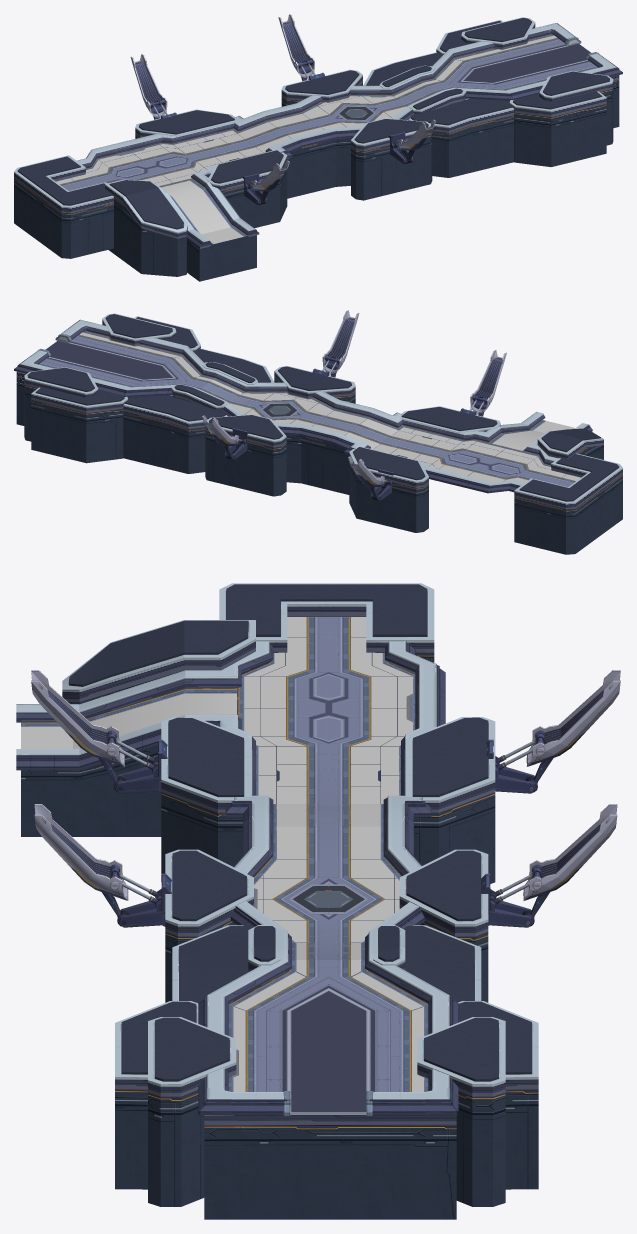
File: Scece_01_pingta05.FBX
3 renders of one model, top to bottom at view 1: azimuth 30°, elevation 25°; view 2: azimuth 150°, elevation 25°; view 3: azimuth 270°, elevation 25°, orthographic. The views are drawn at different scales.
Visible parts, largest first — view 1: Scece_01_pingta05_06, Scece_01_pingta05_03, Scece_01_pingta05_01, Scece_01_pingta05_04, Mesh_0041, Scece_01_pingta05_05; view 2: Scece_01_pingta05_06, Scece_01_pingta05_03, Scece_01_pingta05_01, Scece_01_pingta05_04, Mesh_0041, Scece_01_pingta05_05; view 3: Scece_01_pingta05_06, Scece_01_pingta05_03, Scece_01_pingta05_01, Mesh_0041, Scece_01_pingta05_04, Scece_01_pingta05_05, Mesh_0042.
Part boxes in pixels (bbox=[...]): Scece_01_pingta05_06: bbox=[14, 17, 619, 281]; Scece_01_pingta05_03: bbox=[17, 18, 609, 229]; Scece_01_pingta05_01: bbox=[60, 34, 597, 244]; Scece_01_pingta05_04: bbox=[77, 23, 622, 248]; Mesh_0041: bbox=[56, 35, 556, 243]; Scece_01_pingta05_05: bbox=[130, 14, 435, 205]; Scece_01_pingta05_06: bbox=[16, 313, 622, 554]; Scece_01_pingta05_03: bbox=[27, 314, 619, 501]; Scece_01_pingta05_01: bbox=[39, 331, 575, 486]; Scece_01_pingta05_04: bbox=[14, 319, 592, 493]; Mesh_0041: bbox=[80, 332, 580, 482]; Scece_01_pingta05_05: bbox=[202, 310, 506, 500]; Scece_01_pingta05_06: bbox=[21, 583, 538, 1219]; Scece_01_pingta05_03: bbox=[69, 584, 531, 1081]; Scece_01_pingta05_01: bbox=[21, 617, 428, 1112]; Mesh_0041: bbox=[21, 617, 423, 1091]; Scece_01_pingta05_04: bbox=[16, 641, 458, 1115]; Scece_01_pingta05_05: bbox=[31, 670, 620, 927]; Mesh_0042: bbox=[234, 637, 423, 1010].
Bounding box in the file's own units: 28.5 × 4.91 × 13.49.
